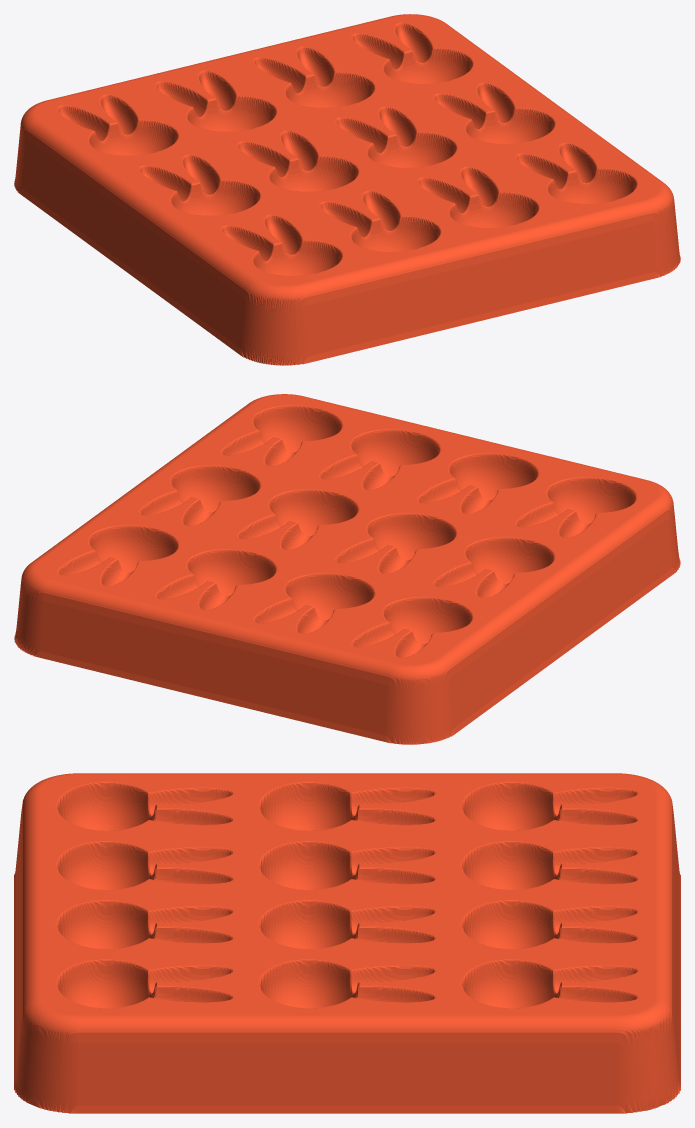
Rendered from mold.glb.
3 views of the same model, one above another, from view 1: azimuth 30°, elevation 25°; view 2: azimuth 150°, elevation 25°; view 3: azimuth 270°, elevation 25° (orthographic). The views are drawn at different scales.
Parts seen in each view (by area): view 1: geometry_0; view 2: geometry_0; view 3: geometry_0.
Part boxes in pixels (x1=…): geometry_0: x1=14, y1=14, x2=680, y2=365; geometry_0: x1=14, y1=394, x2=680, y2=744; geometry_0: x1=14, y1=773, x2=680, y2=1113.
Size of the model in its own units: 0.0871 by 0.0136 by 0.0938.
